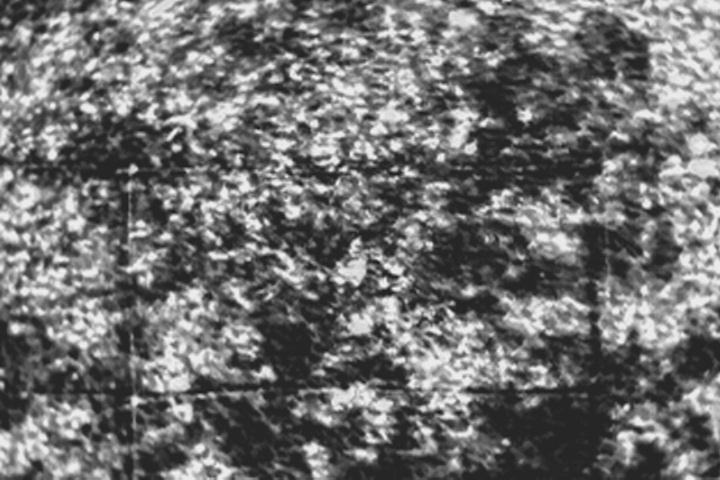landmine: (341, 257, 367, 284)
